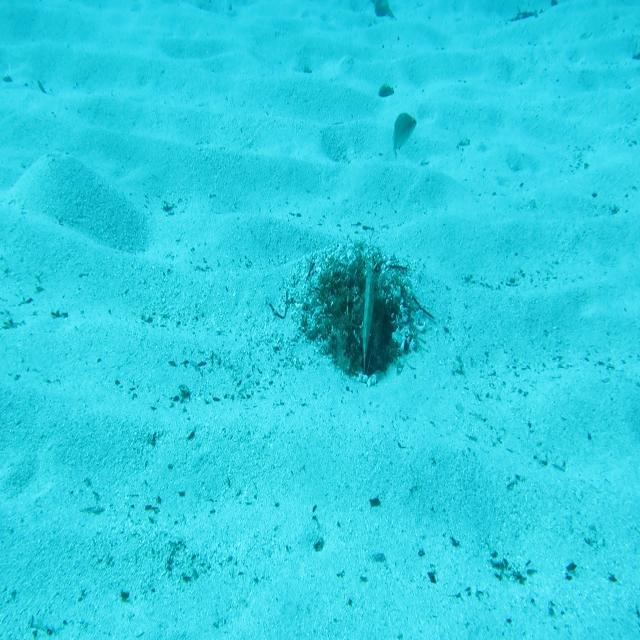H_UP: (347, 247, 386, 379)
female: (390, 106, 418, 167)
nest: (296, 236, 422, 382)
